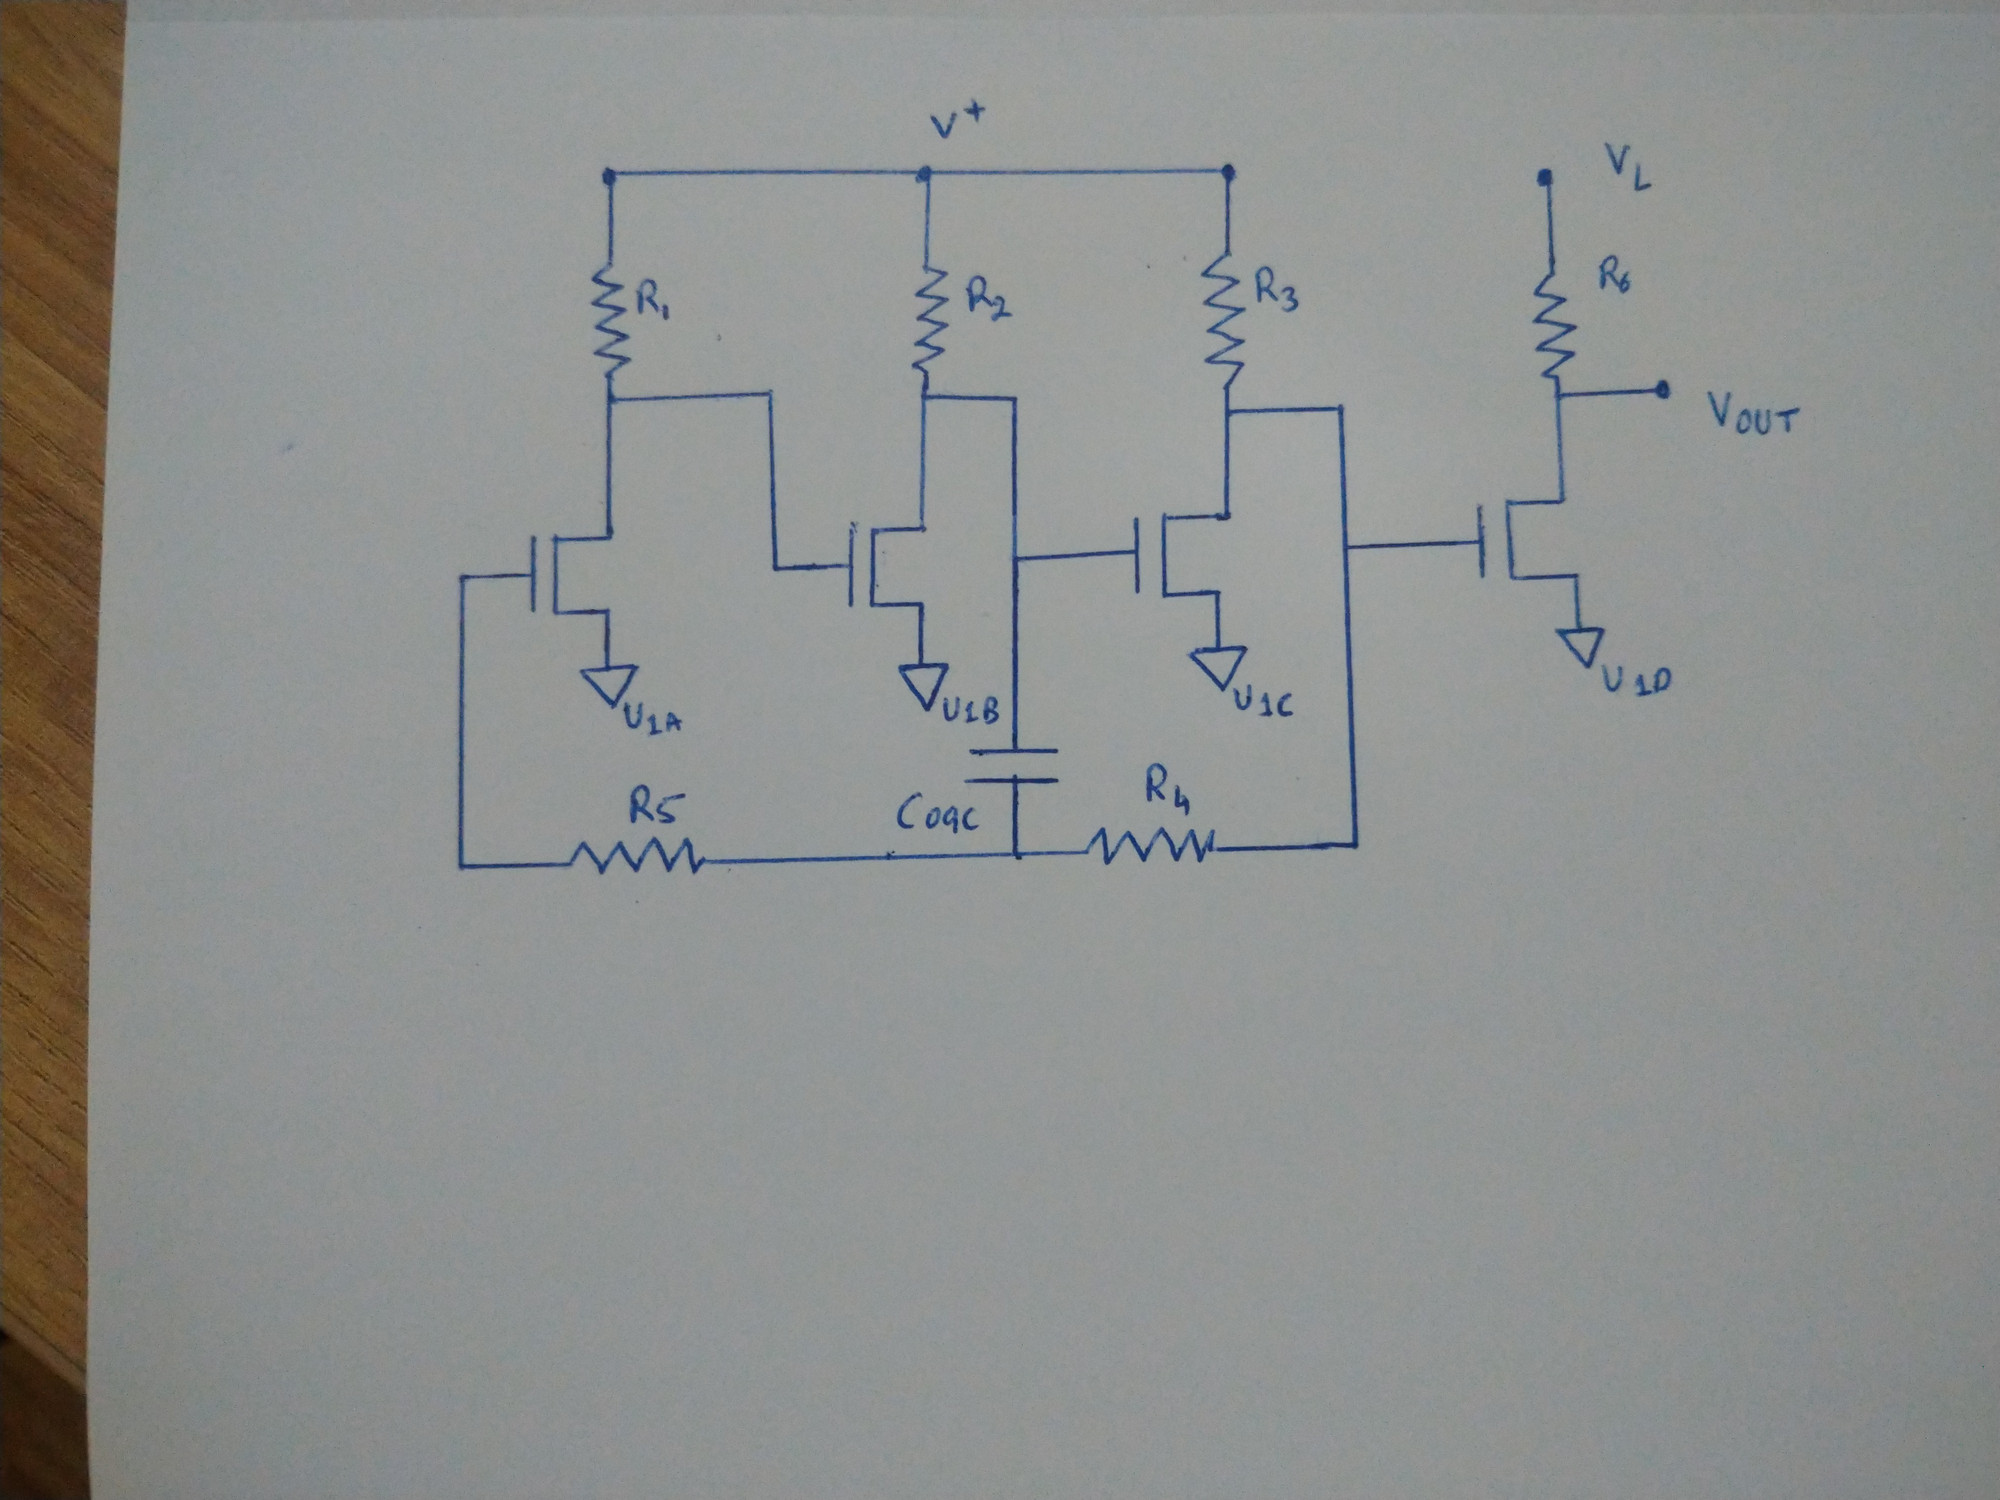capacitor.unpolarized: (961, 739, 1072, 800)
gnd: (1550, 622, 1608, 671)
junction: (1328, 533, 1364, 562), (913, 162, 943, 191), (1216, 158, 1246, 184), (597, 164, 625, 191), (765, 555, 787, 583), (1006, 841, 1028, 867), (1331, 399, 1353, 422), (756, 383, 781, 403), (454, 566, 476, 588), (1343, 832, 1364, 856), (602, 388, 624, 408), (452, 854, 472, 876), (1217, 402, 1239, 422), (1548, 388, 1573, 403), (1009, 548, 1027, 570), (1006, 391, 1024, 410), (917, 391, 935, 407)
resistor: (1195, 244, 1254, 394), (557, 834, 718, 882), (1082, 822, 1224, 874), (1528, 262, 1580, 381), (587, 254, 635, 381), (909, 262, 956, 378)
terminal: (578, 657, 641, 714), (1184, 644, 1250, 693), (894, 662, 953, 714), (1646, 373, 1683, 408), (1529, 162, 1562, 194)
text: (1706, 389, 1802, 440), (898, 789, 980, 837), (1598, 139, 1668, 194), (1143, 759, 1202, 818), (624, 780, 691, 829), (1600, 662, 1679, 698), (964, 273, 1014, 323), (1235, 682, 1301, 720), (929, 98, 987, 140), (620, 701, 687, 737), (1254, 265, 1302, 314), (942, 693, 1006, 730), (635, 277, 680, 321), (1597, 254, 1636, 296)
transistor: (1465, 490, 1587, 586), (1128, 503, 1241, 603), (839, 511, 942, 619), (521, 525, 631, 626)
